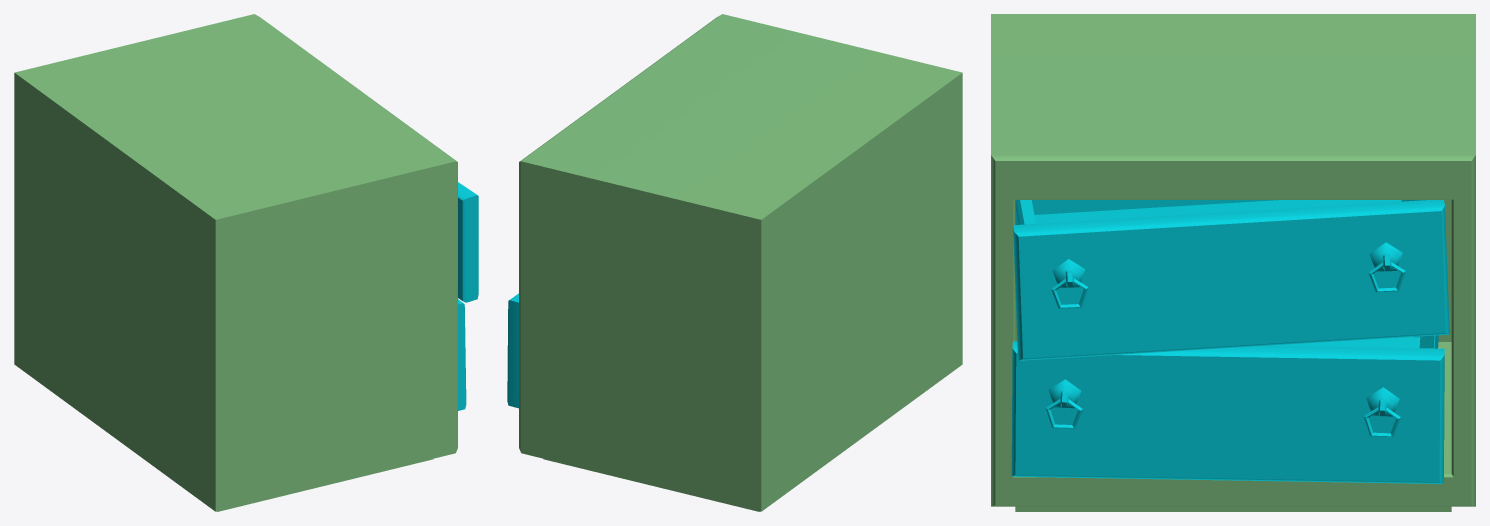
The model's file is Drawers.fbx.
3 views of the same model, side by side, from view 1: azimuth 30°, elevation 25°; view 2: azimuth 150°, elevation 25°; view 3: azimuth 270°, elevation 25° (orthographic). The views are drawn at different scales.
Parts seen in each view (by area): view 1: polySurface128; view 2: polySurface128; view 3: polySurface128.
Boxes of the visible parts, box(x1,y1,x2,y2) form: polySurface128: box(14, 14, 478, 511); polySurface128: box(507, 14, 962, 511); polySurface128: box(991, 14, 1475, 511).
Bounding box in the file's own units: 143 × 145 × 175.
